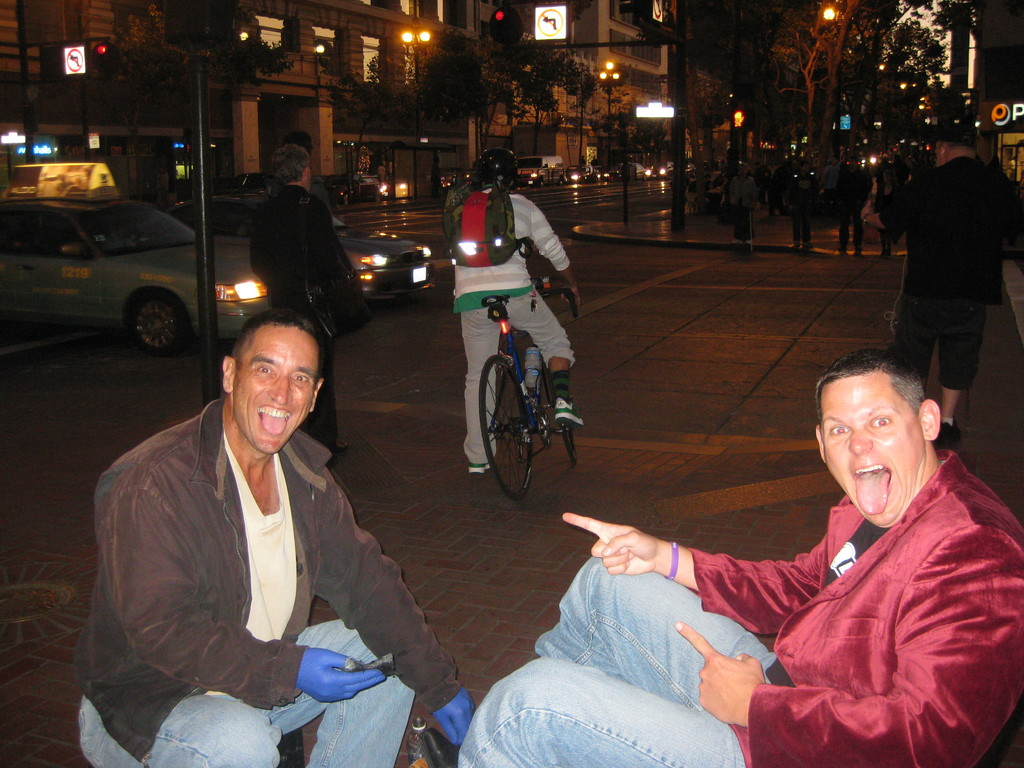Bike: (441, 305, 654, 483)
